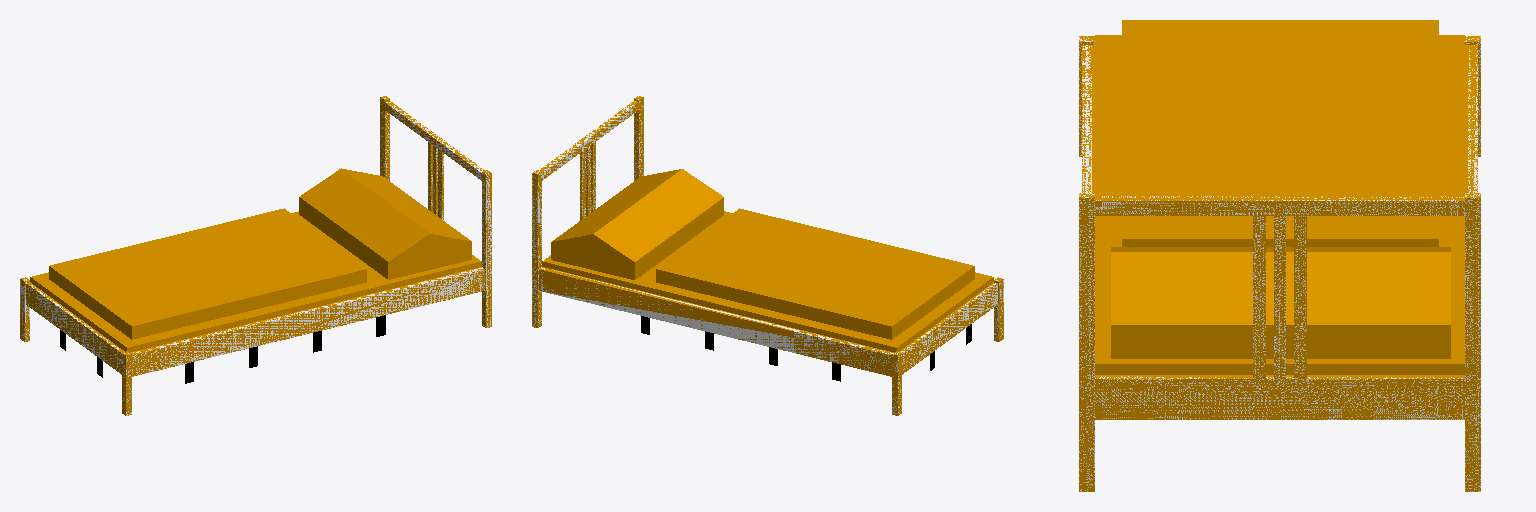
robot.urdf — Bett_Fjellse:
<?xml version="1.0" ?> 
<robot name="Bett_Fjellse" static="true">
  <link name="base_link">
  <inertial>
    <mass value="20.0" />
    <origin xyz="0 0 0.0" />
    <inertia ixx="1.0" ixy="0.0" ixz="0.0" iyy="1.0" iyz="0.0" izz="1.0"/>
  </inertial>
  <visual>
   <origin xyz="0 0 0.0" rpy="0 0 0" />
   <geometry>
     <mesh filename="package://cob_gazebo_objects/Media/models/Bett_Fjellse.dae"/>
   </geometry>
  </visual>
  <collision>
   <origin xyz="0 0 0.0" rpy="0 0 0" />
   <geometry>
     <mesh filename="package://cob_gazebo_objects/Media/models/Bett_Fjellse_boundings.dae" />
   </geometry>
  </collision>     
  </link>

<gazebo>
	<static>true</static>
</gazebo>
</robot>

--- Render facts (derived) ---
Views: 3 orthographic renders of the robot side by side, from view 1: azimuth 30°, elevation 25°; view 2: azimuth 150°, elevation 25°; view 3: azimuth 270°, elevation 25°.
Robot: Bett_Fjellse — 1 links, 0 joints (none); root link base_link; default pose: every joint at zero.
Visible links, largest first — view 1: base_link; view 2: base_link; view 3: base_link.
Link boxes in pixels (x1,y1,x2,y2): base_link: (20,96,491,415); base_link: (532,96,1003,415); base_link: (1079,20,1480,491).
Bounding box of the posed robot: 0.051 × 0.0255 × 0.0206 m (x, y, z).
1 mesh visuals loaded from 1 distinct referenced files (1 Collada DAE).
